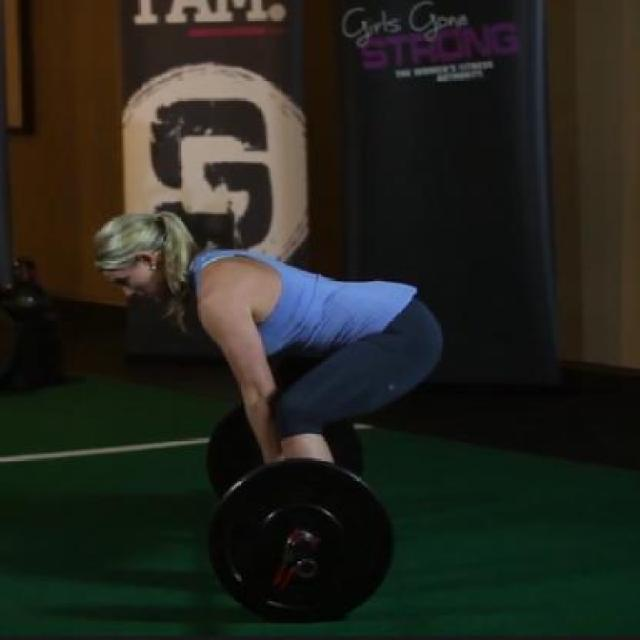barbell: (204, 452, 400, 629)
